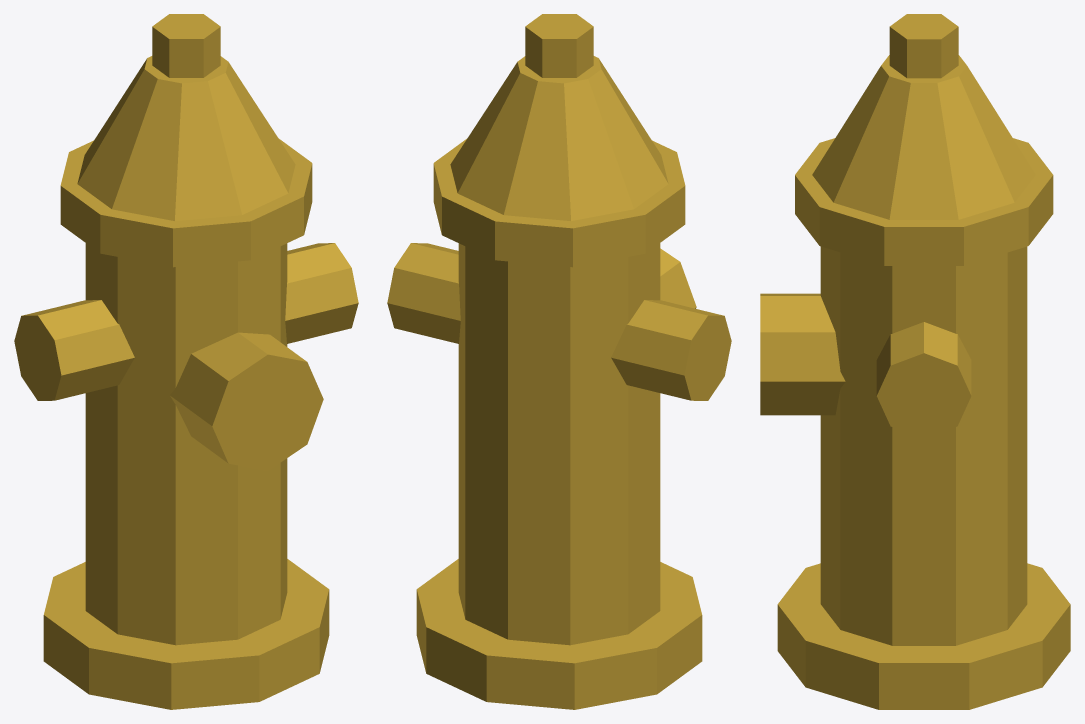
Rendered from objet_borne_jaune.glb.
3 renders of one model, left to right at view 1: azimuth 30°, elevation 25°; view 2: azimuth 150°, elevation 25°; view 3: azimuth 270°, elevation 25°, orthographic.
Visible parts, largest first — view 1: objet_borne_jaune; view 2: objet_borne_jaune; view 3: objet_borne_jaune.
Part boxes in pixels (x1,y1,x2,y2): objet_borne_jaune: [14, 14, 358, 709]; objet_borne_jaune: [387, 14, 731, 709]; objet_borne_jaune: [760, 14, 1070, 709].
Bounding box in the file's own units: 0.4 × 0.8 × 0.36.
